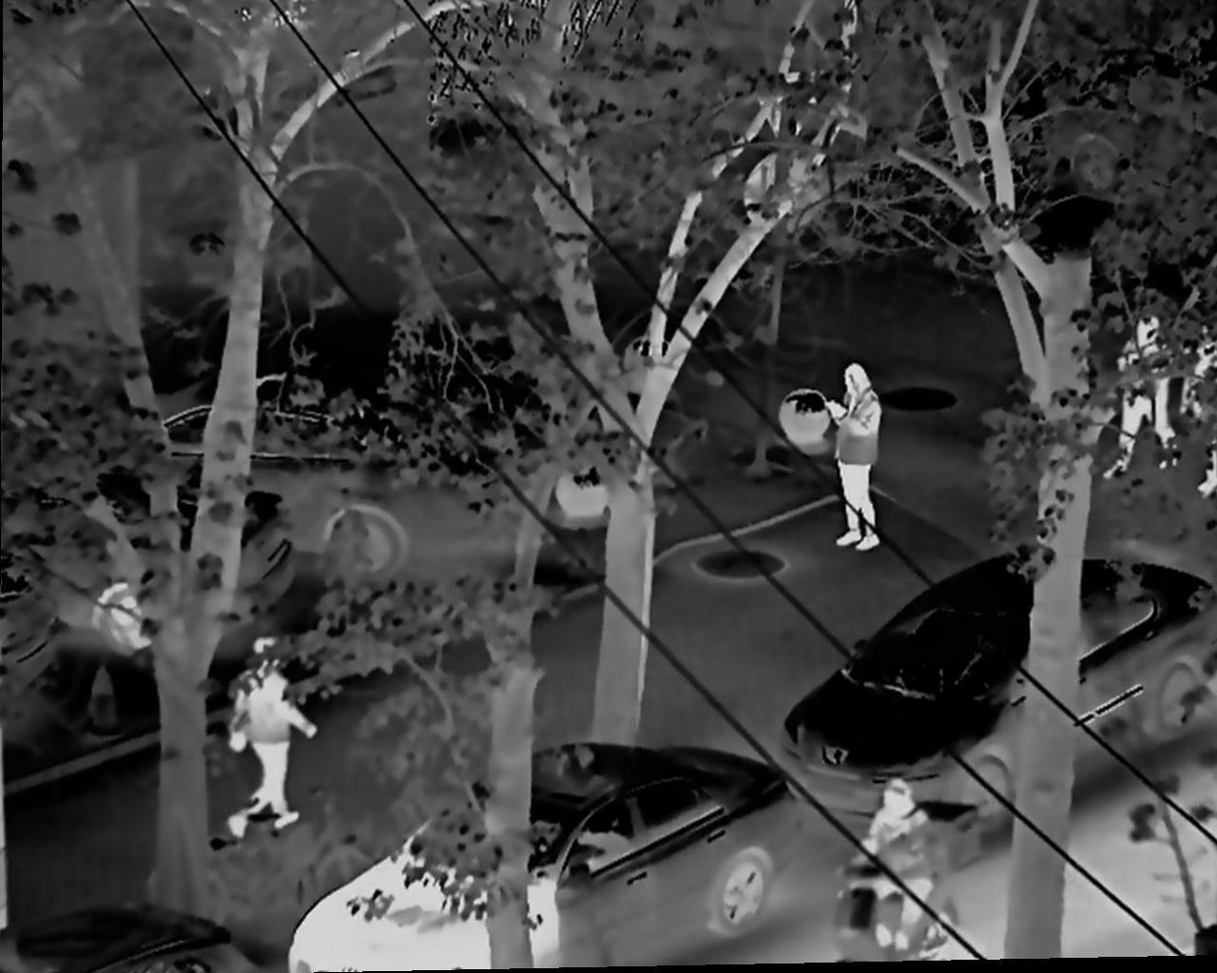person: (843, 776, 930, 955), (228, 677, 318, 843), (823, 359, 883, 551), (1097, 378, 1178, 481)
